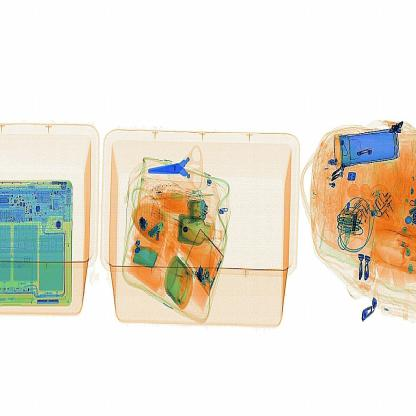gun: (144, 140, 212, 196)
